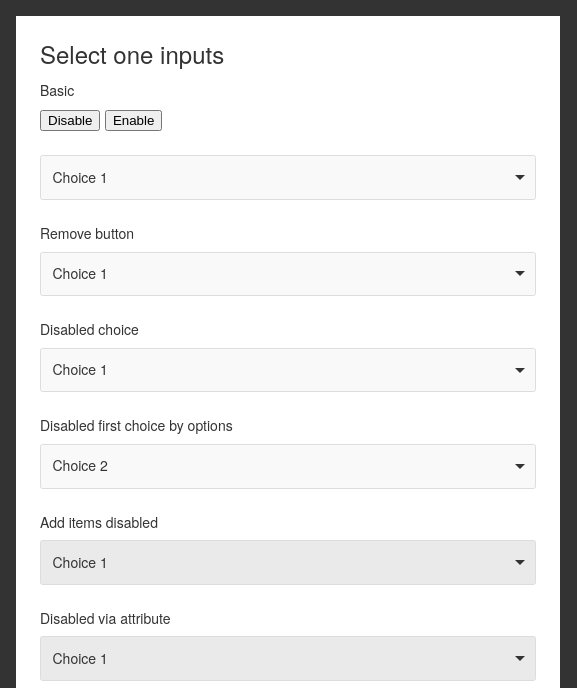
Test: Choices - select one › scenarios › basic › focusing on container › pressing an alpha-numeric key › opens the dropdown and the input value
Step 1. Type "test" into the dropdown with class "choices" below "Basic" → {"x": 288, "y": 178}, box [40,155,536,200]
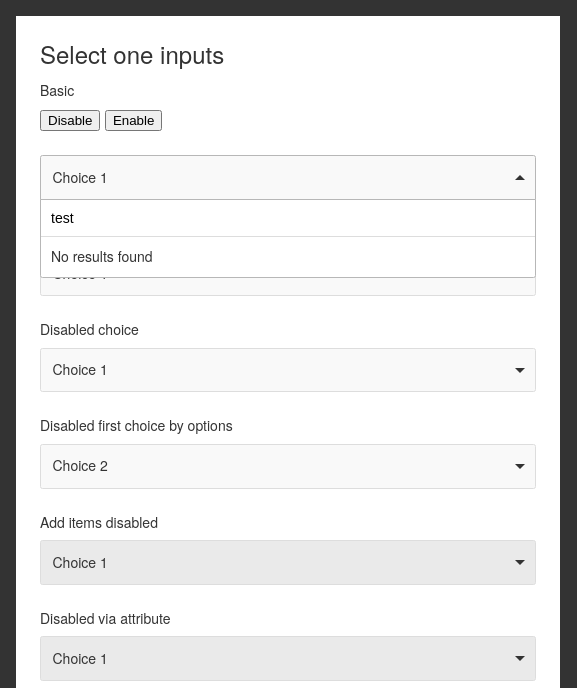
Expected: the element with class "choices__list--dropdown" is shown, [40,199,536,278]
